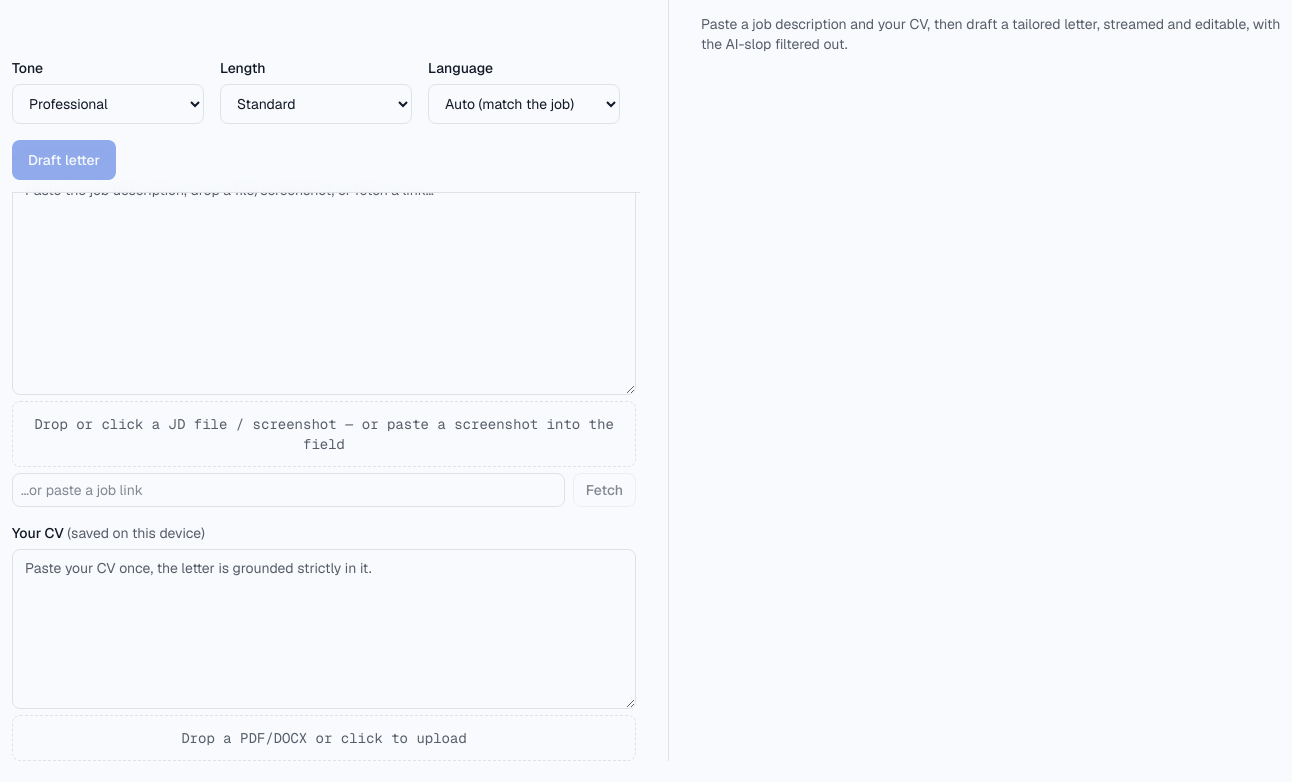
Test: CoverLetterView › blocks drafting and warns when the CV is missing
Replace the text in the text box labelled "Job description" with "Senior React engineer building streaming AI interfaces on Next.js and AWS." at (324,283), box [12, 171, 636, 395]
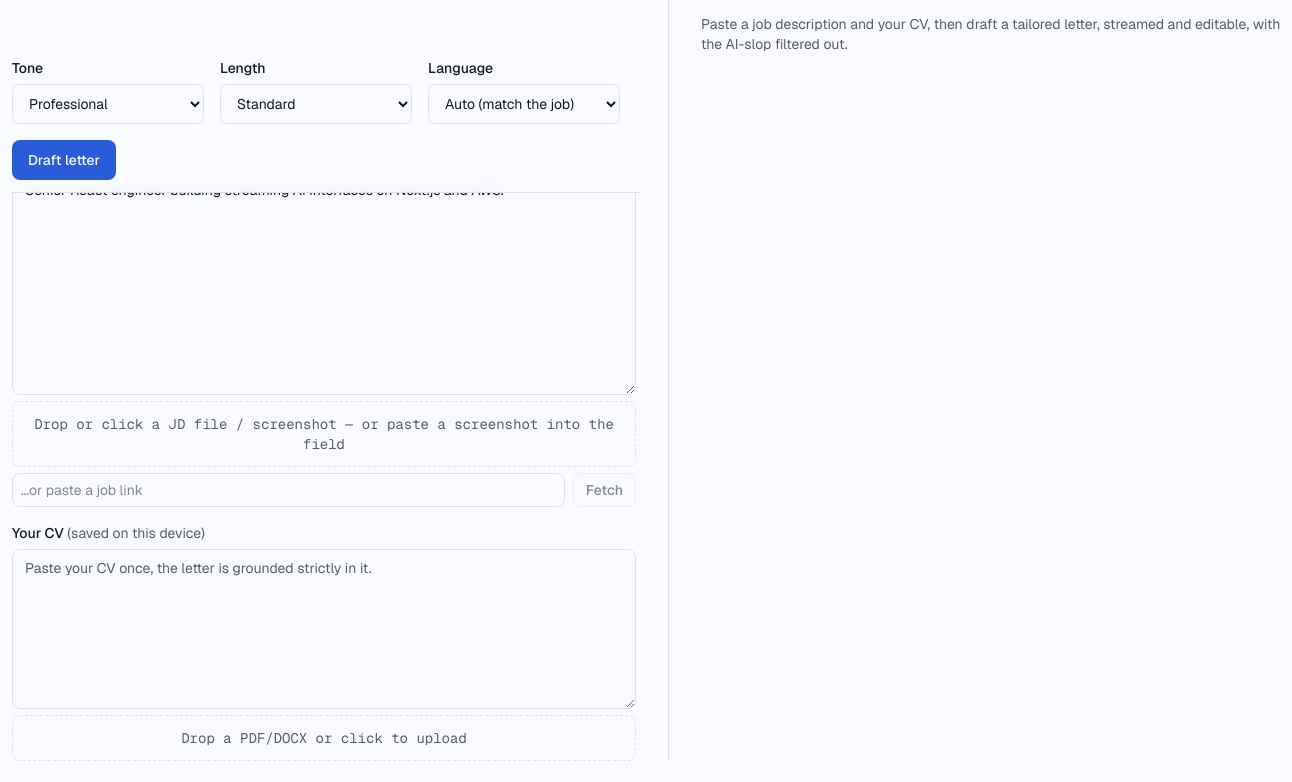
Click the button "Draft letter" at (64,160), box [12, 140, 116, 180]
(page scrolled)
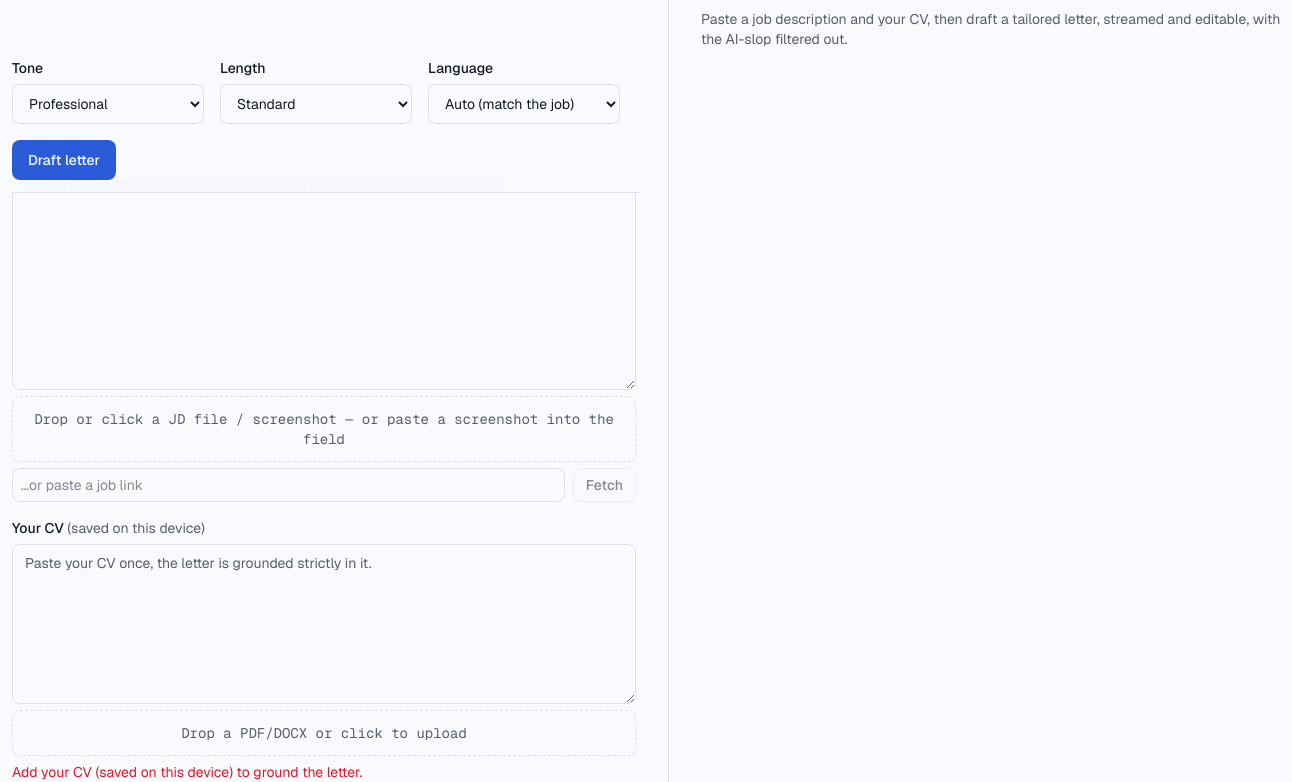
Expected: the message shows "Add your CV", [12, 763, 362, 781]
